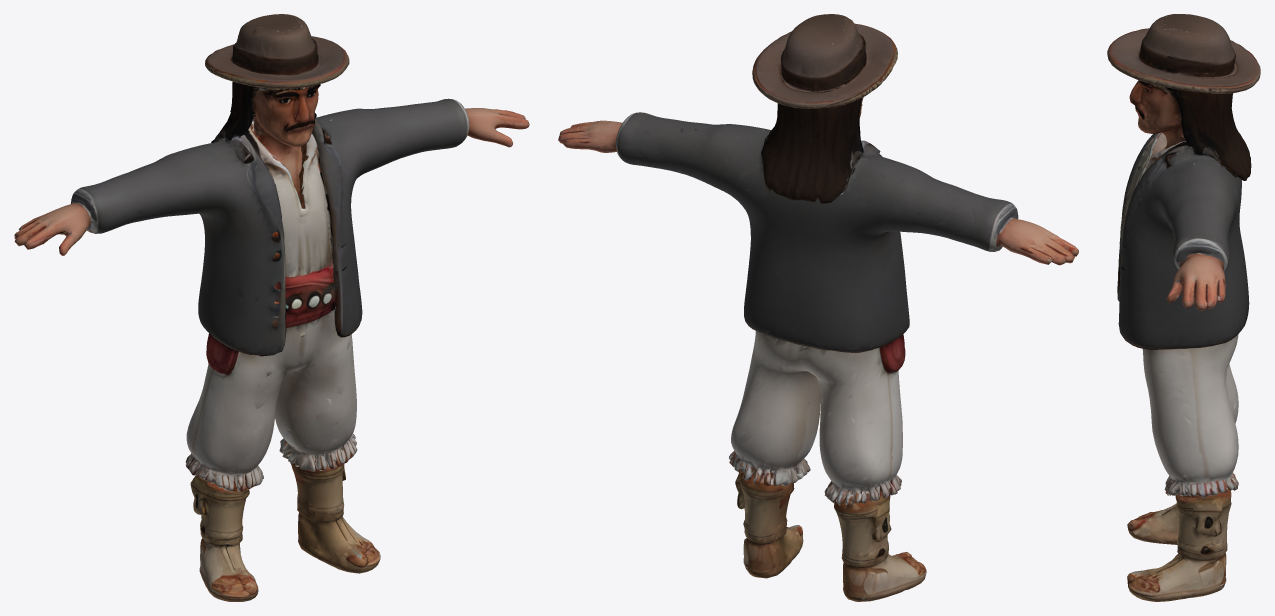
File: nicasio_mixamo.fbx
The picture shows the model from 3 angles, left to right: view 1: azimuth 30°, elevation 25°; view 2: azimuth 150°, elevation 25°; view 3: azimuth 270°, elevation 25°; orthographic projection.
Visible parts, largest first — view 1: nicasio; view 2: nicasio; view 3: nicasio.
Boxes of the visible parts, x1,y1,x2,y2 form: nicasio: [14, 14, 529, 601]; nicasio: [558, 14, 1078, 601]; nicasio: [1107, 14, 1260, 601].
Bounding box in the file's own units: 168 × 172 × 44.15.
Materials: 1 (1 with a texture image).
